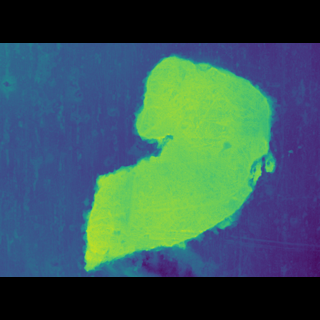Loch: (72, 79, 282, 245)
